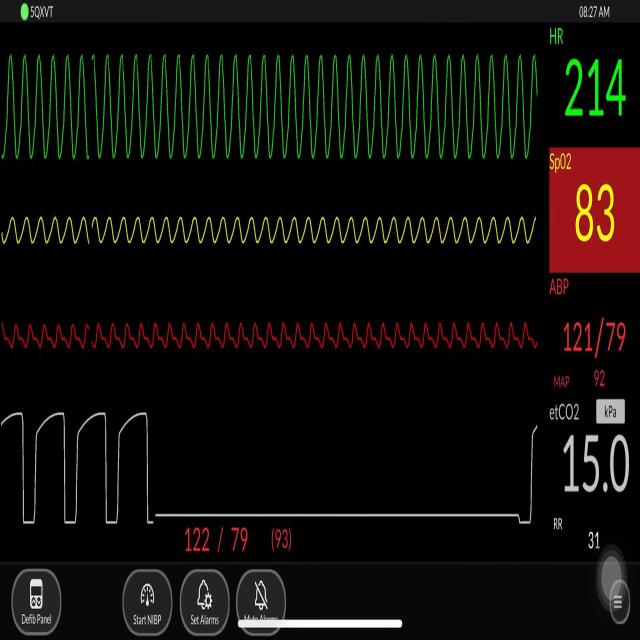danger: (11, 43, 545, 168)
